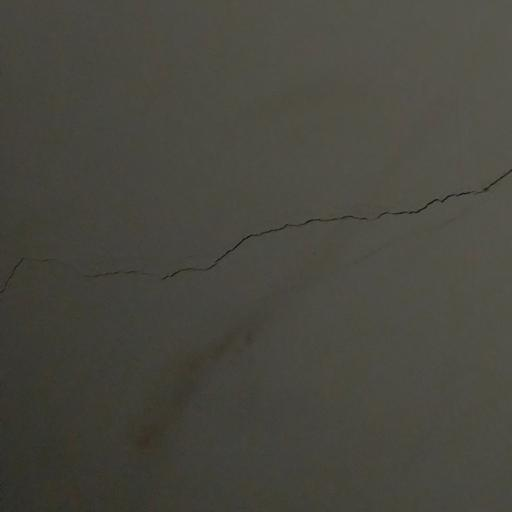minor_crack: (0, 164, 512, 294)
